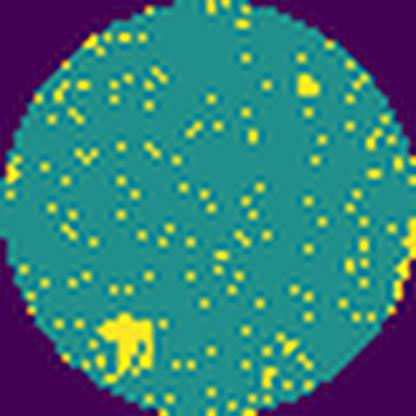Loc: (100, 308, 158, 379)
